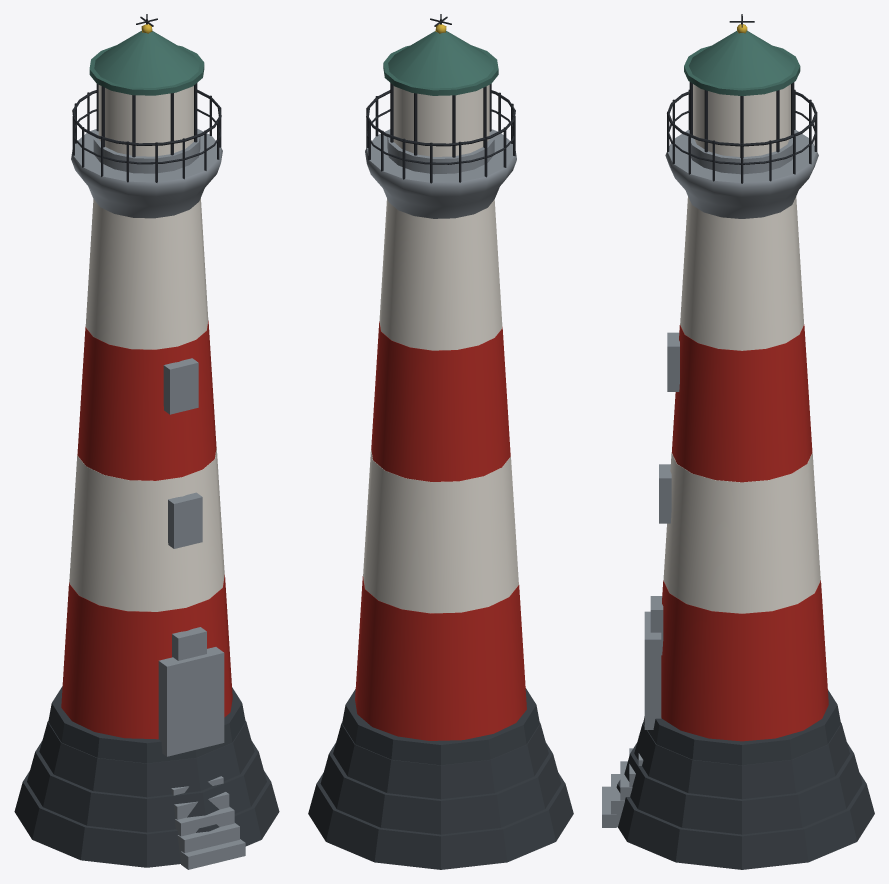
File: mega_lighthouse.glb
3 renders of one model, left to right at view 1: azimuth 30°, elevation 25°; view 2: azimuth 150°, elevation 25°; view 3: azimuth 270°, elevation 25°, orthographic.
Parts seen in each view (by area): view 1: mega_lighthouse; view 2: mega_lighthouse; view 3: mega_lighthouse.
Boxes of the visible parts, x1,y1,x2,y2 form: mega_lighthouse: (14, 14, 279, 869); mega_lighthouse: (308, 14, 573, 869); mega_lighthouse: (602, 14, 874, 869).
Size of the model in its own units: 6.4 by 21.25 by 6.57.
